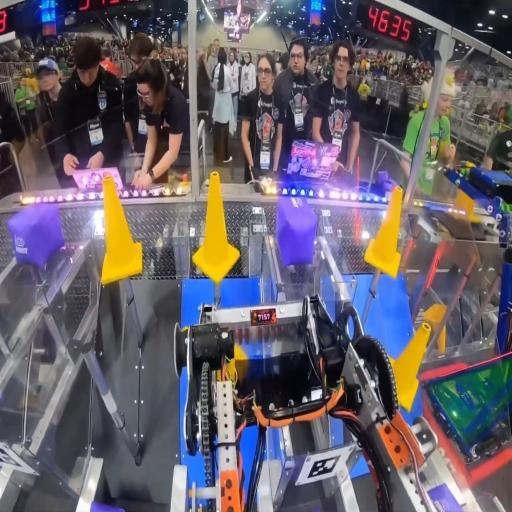robot: (418, 159, 512, 486)
